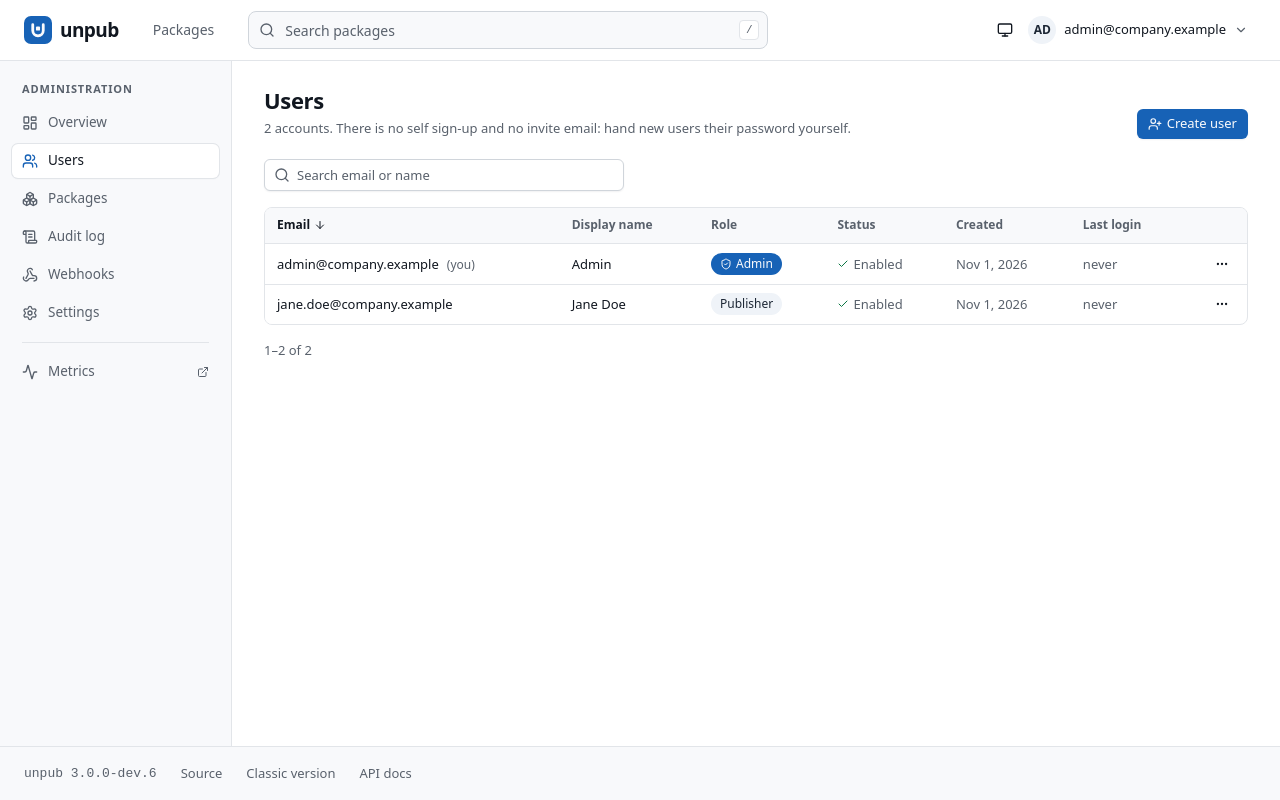
Test: admin users › changes a role
This screenshot has width=1280, height=800.
Click the button named "Actions for jane.doe@company.example". click: (1222, 304)
box: [1209, 291, 1235, 317]
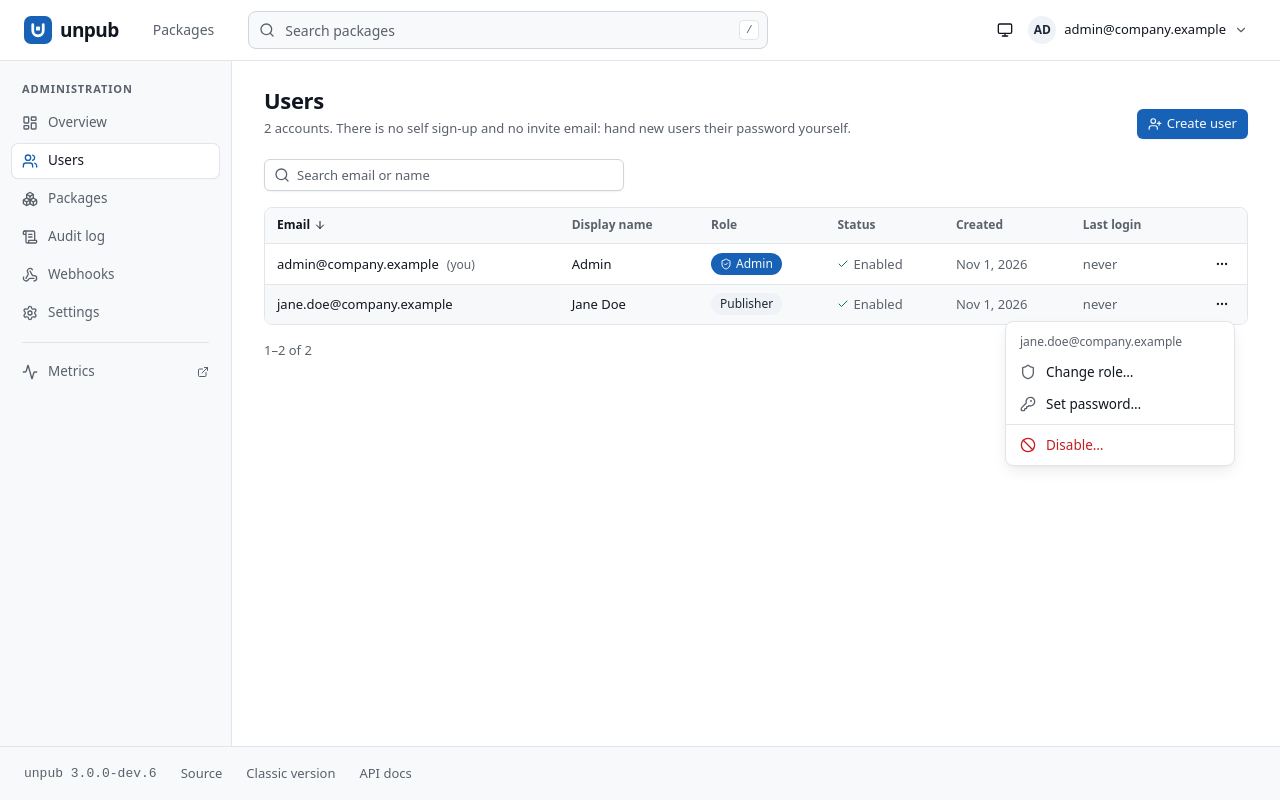
Click the menu item "Change role…". click: (1077, 372)
box: [1020, 363, 1134, 381]
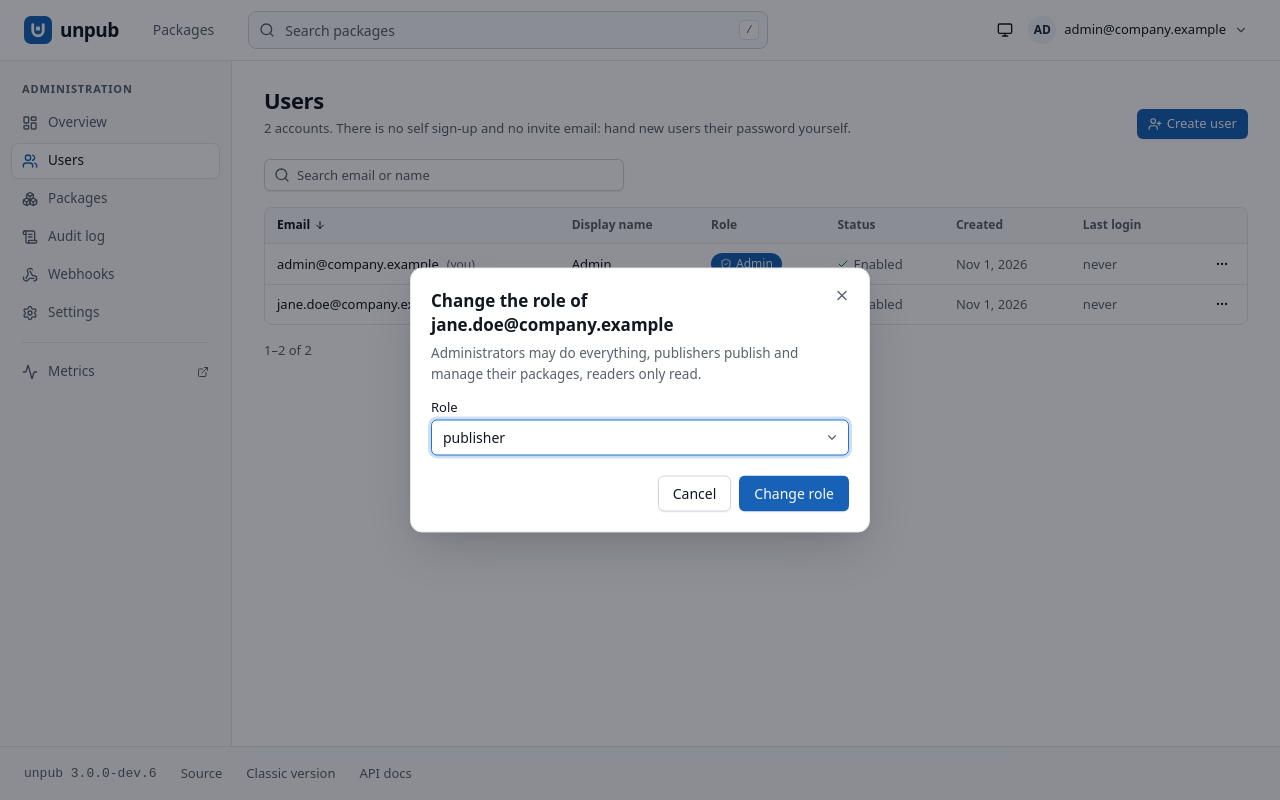
Select "admin" in the dropdown labelled "Role". click: (640, 438)
box: [431, 420, 849, 456]
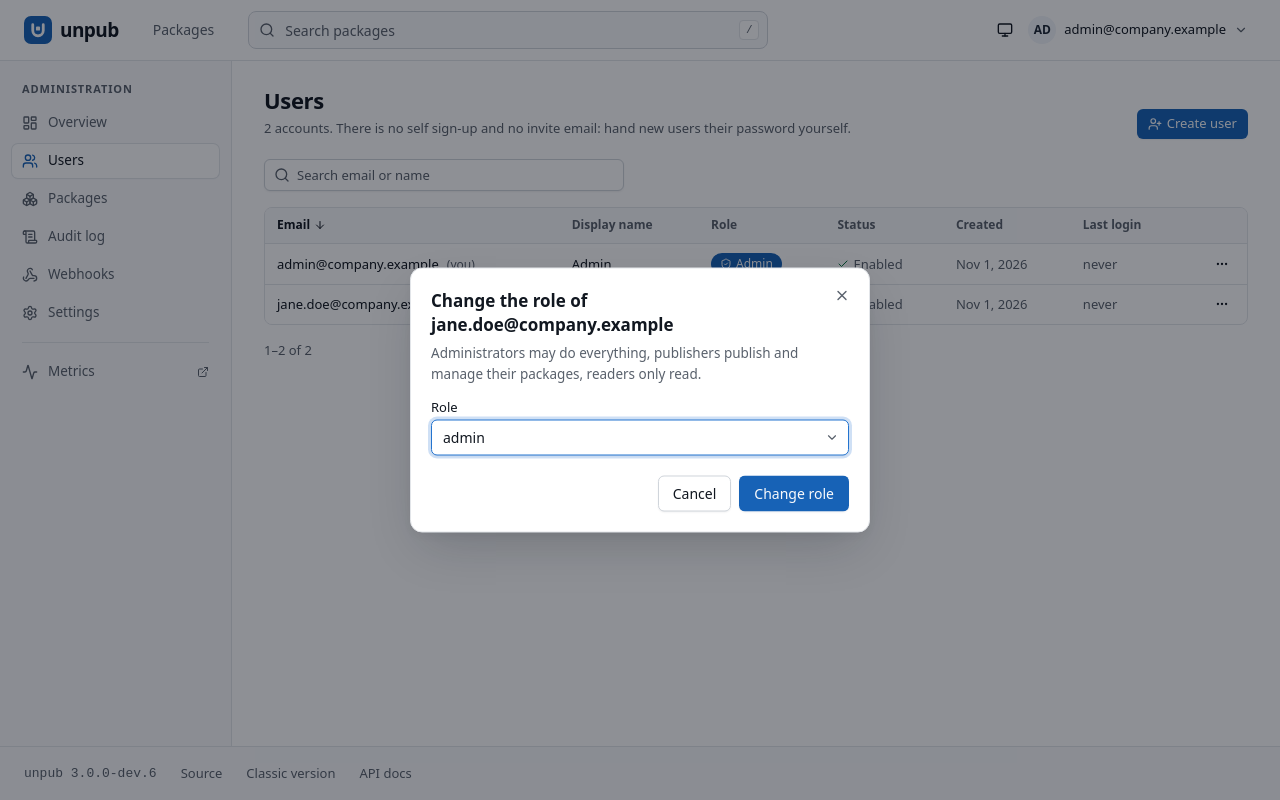
Click the button "Change role". click: (794, 494)
box: [739, 476, 849, 512]
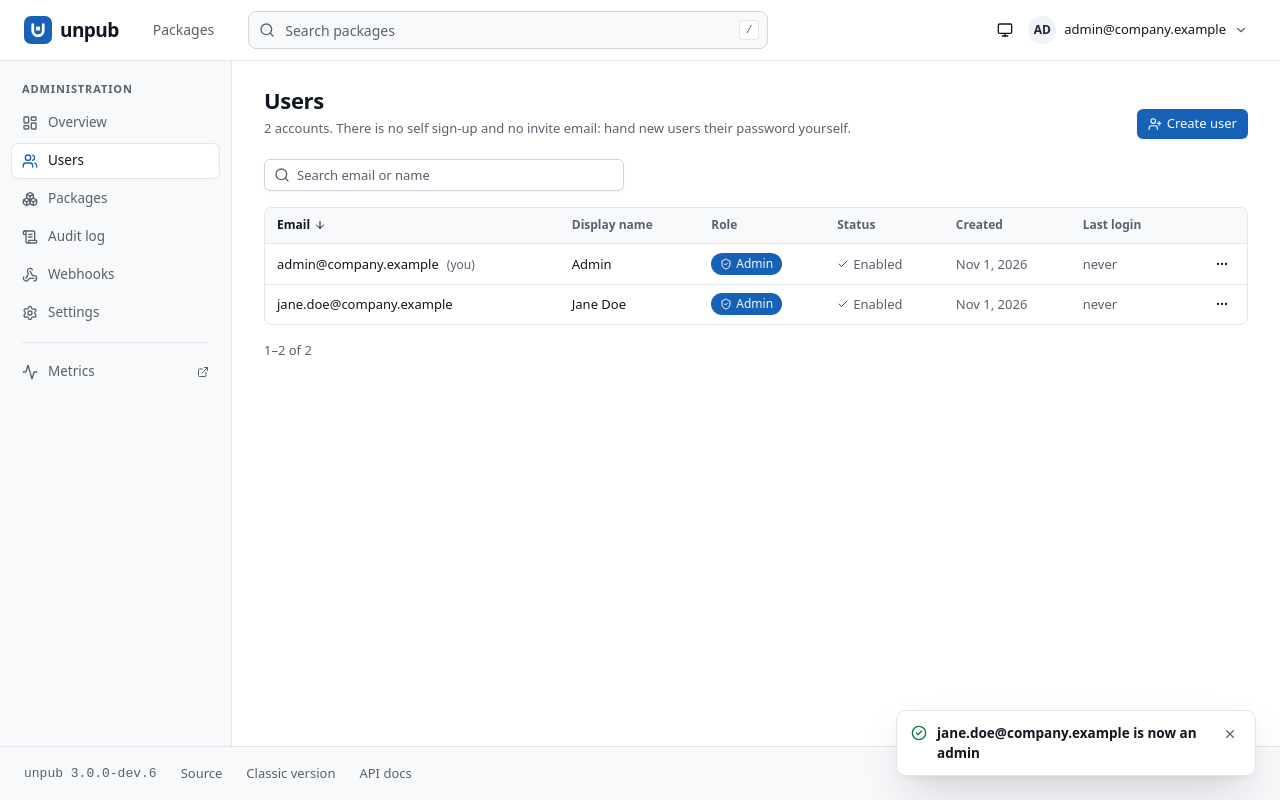
expect the text "jane.doe@company.example is now an admin" is shown: met, box [937, 723, 1207, 763]
